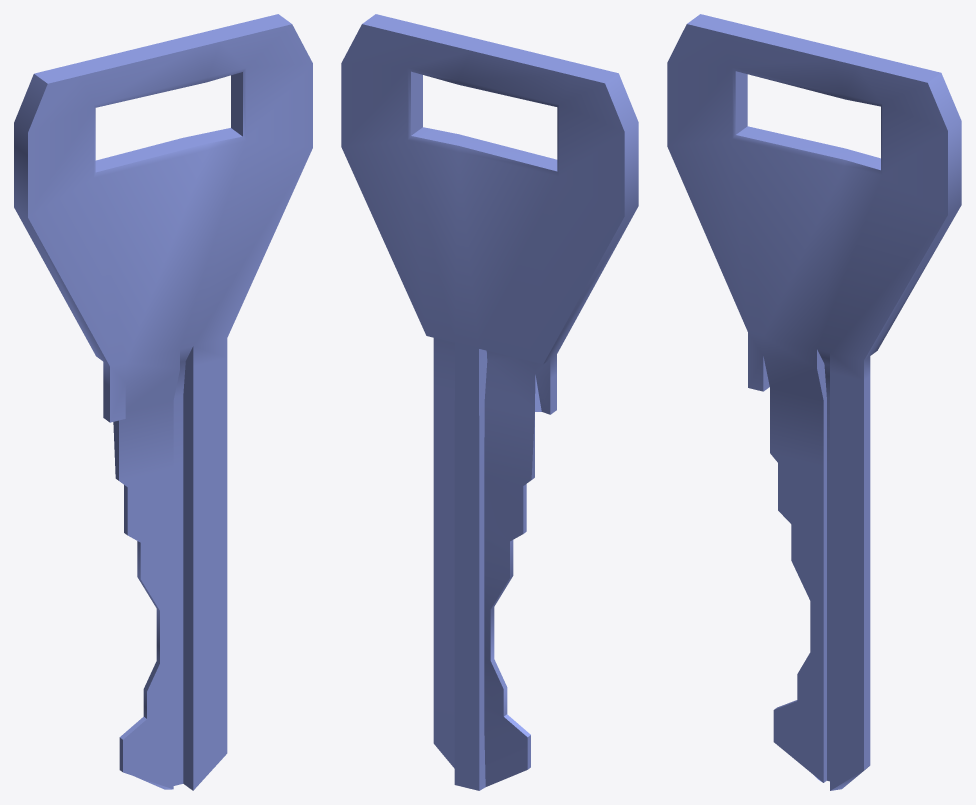
The model's file is Keys_44.FBX.
3 views of the same model, side by side, from view 1: azimuth 30°, elevation 25°; view 2: azimuth 150°, elevation 25°; view 3: azimuth 330°, elevation 25° (orthographic).
Parts seen in each view (by area): view 1: Keys_44; view 2: Keys_44; view 3: Keys_44.
Part boxes in pixels (x1,y1,x2,y2): Keys_44: (14,14,312,790); Keys_44: (341,14,638,790); Keys_44: (667,14,961,790).
Bounding box in the file's own units: 0.7899 × 1.97 × 0.0666.
